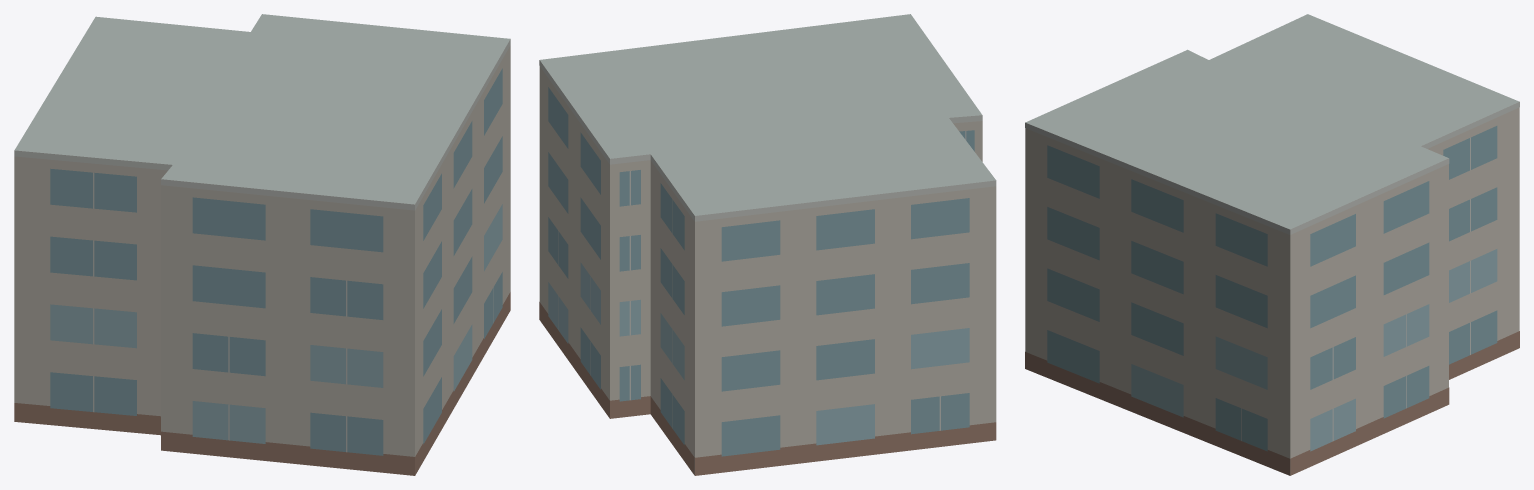
Rendered from survey-upis-32977067.glb.
3 views of the same model, side by side, from view 1: azimuth 30°, elevation 25°; view 2: azimuth 150°, elevation 25°; view 3: azimuth 270°, elevation 25° (orthographic). The views are drawn at different scales.
Visible parts, largest first — view 1: survey-upis-32977067.tmp; view 2: survey-upis-32977067.tmp; view 3: survey-upis-32977067.tmp.
Boxes of the visible parts, <box> form: survey-upis-32977067.tmp: <box>14,14,510,475</box>; survey-upis-32977067.tmp: <box>539,14,996,475</box>; survey-upis-32977067.tmp: <box>1025,14,1519,475</box>.
Bounding box in the file's own units: 20.56 × 10.95 × 19.93.
